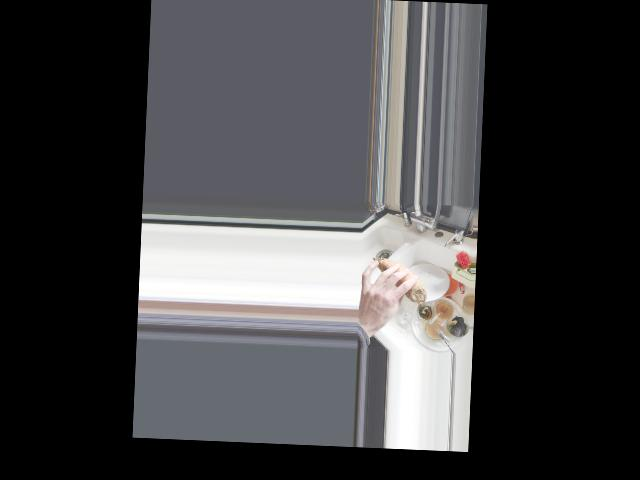sweet_potato: (370, 257, 426, 303)
